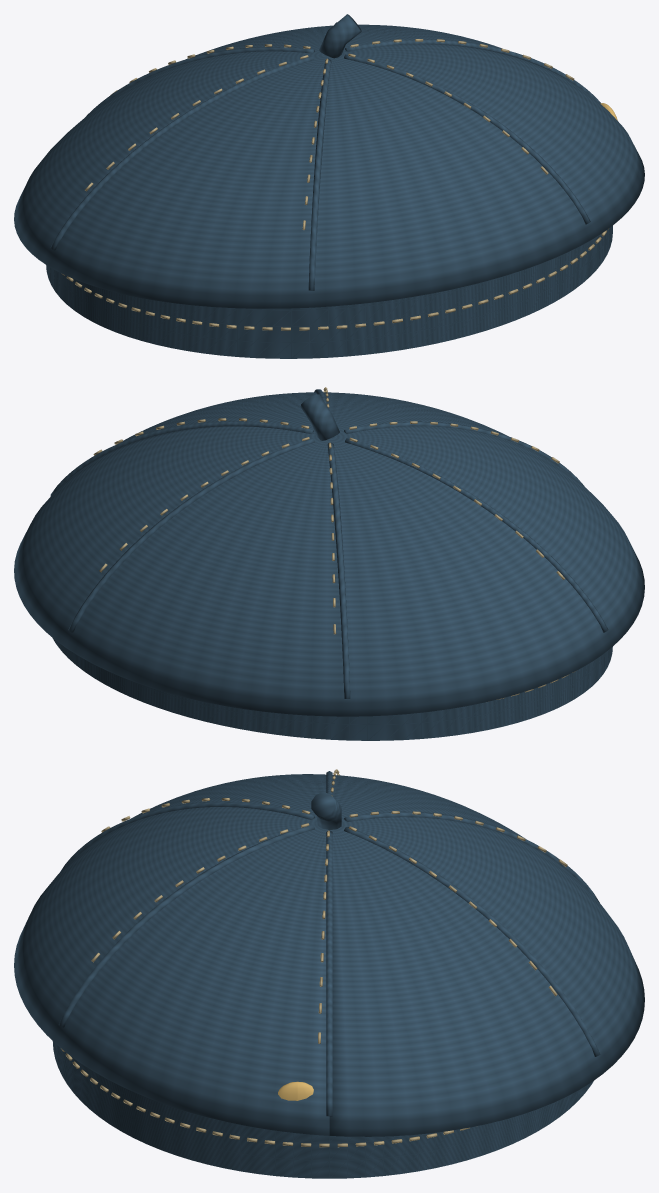
The model's file is blue-beret.glb.
The picture shows the model from 3 angles, top to bottom: view 1: azimuth 30°, elevation 25°; view 2: azimuth 150°, elevation 25°; view 3: azimuth 270°, elevation 25°; orthographic projection. The views are drawn at different scales.
Parts seen in each view (by area): view 1: blue-beret / Woven blue-beret, blue-beret / Ivory cotton stitching; view 2: blue-beret / Woven blue-beret, blue-beret / Ivory cotton stitching; view 3: blue-beret / Woven blue-beret, blue-beret / Ivory cotton stitching.
Boxes of the visible parts, box(x1,y1,x2,y2) form: blue-beret / Woven blue-beret: box(14, 14, 644, 358); blue-beret / Ivory cotton stitching: box(61, 39, 608, 330); blue-beret / Woven blue-beret: box(14, 389, 644, 740); blue-beret / Ivory cotton stitching: box(93, 387, 575, 699); blue-beret / Woven blue-beret: box(14, 771, 644, 1178); blue-beret / Ivory cotton stitching: box(61, 769, 567, 1147).
Bounding box in the file's own units: 0.228 × 0.0891 × 0.1984.
3 materials, 2 textured.
